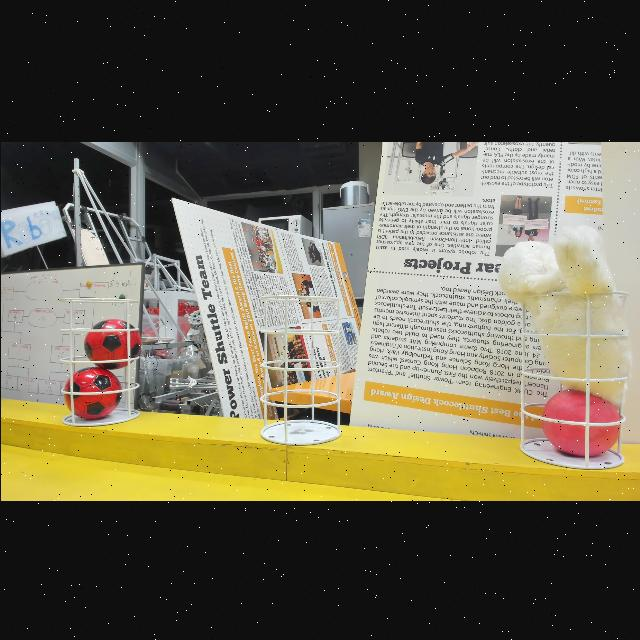R: (539, 386, 623, 458), (62, 365, 125, 421), (81, 314, 143, 370)
S: (516, 283, 632, 473), (255, 290, 343, 448), (53, 292, 139, 428)
